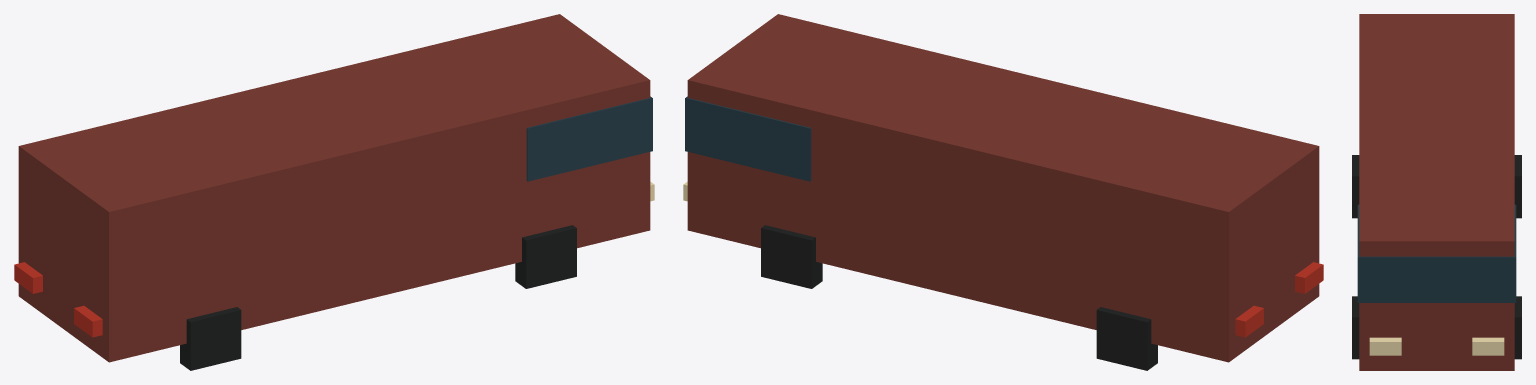
File: traffic-van-3.glb
The picture shows the model from 3 angles, left to right: view 1: azimuth 30°, elevation 25°; view 2: azimuth 150°, elevation 25°; view 3: azimuth 270°, elevation 25°; orthographic projection. The views are drawn at different scales.
Size of the model in its own units: 6.65 by 1.98 by 2.02.
